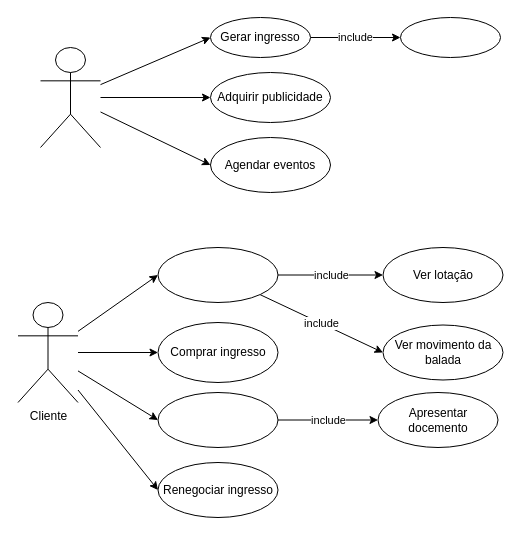
Image size: 520x535. Some labels were removed from this diagram. Each missing label, with the centre of its shape:
"Criar combo" belongs at point (450, 37).
"Dono da revoada" belongs at point (70, 97).
"Listagem de revoadas" belongs at point (217, 274).
"Realizar acesso" belongs at point (217, 420).
